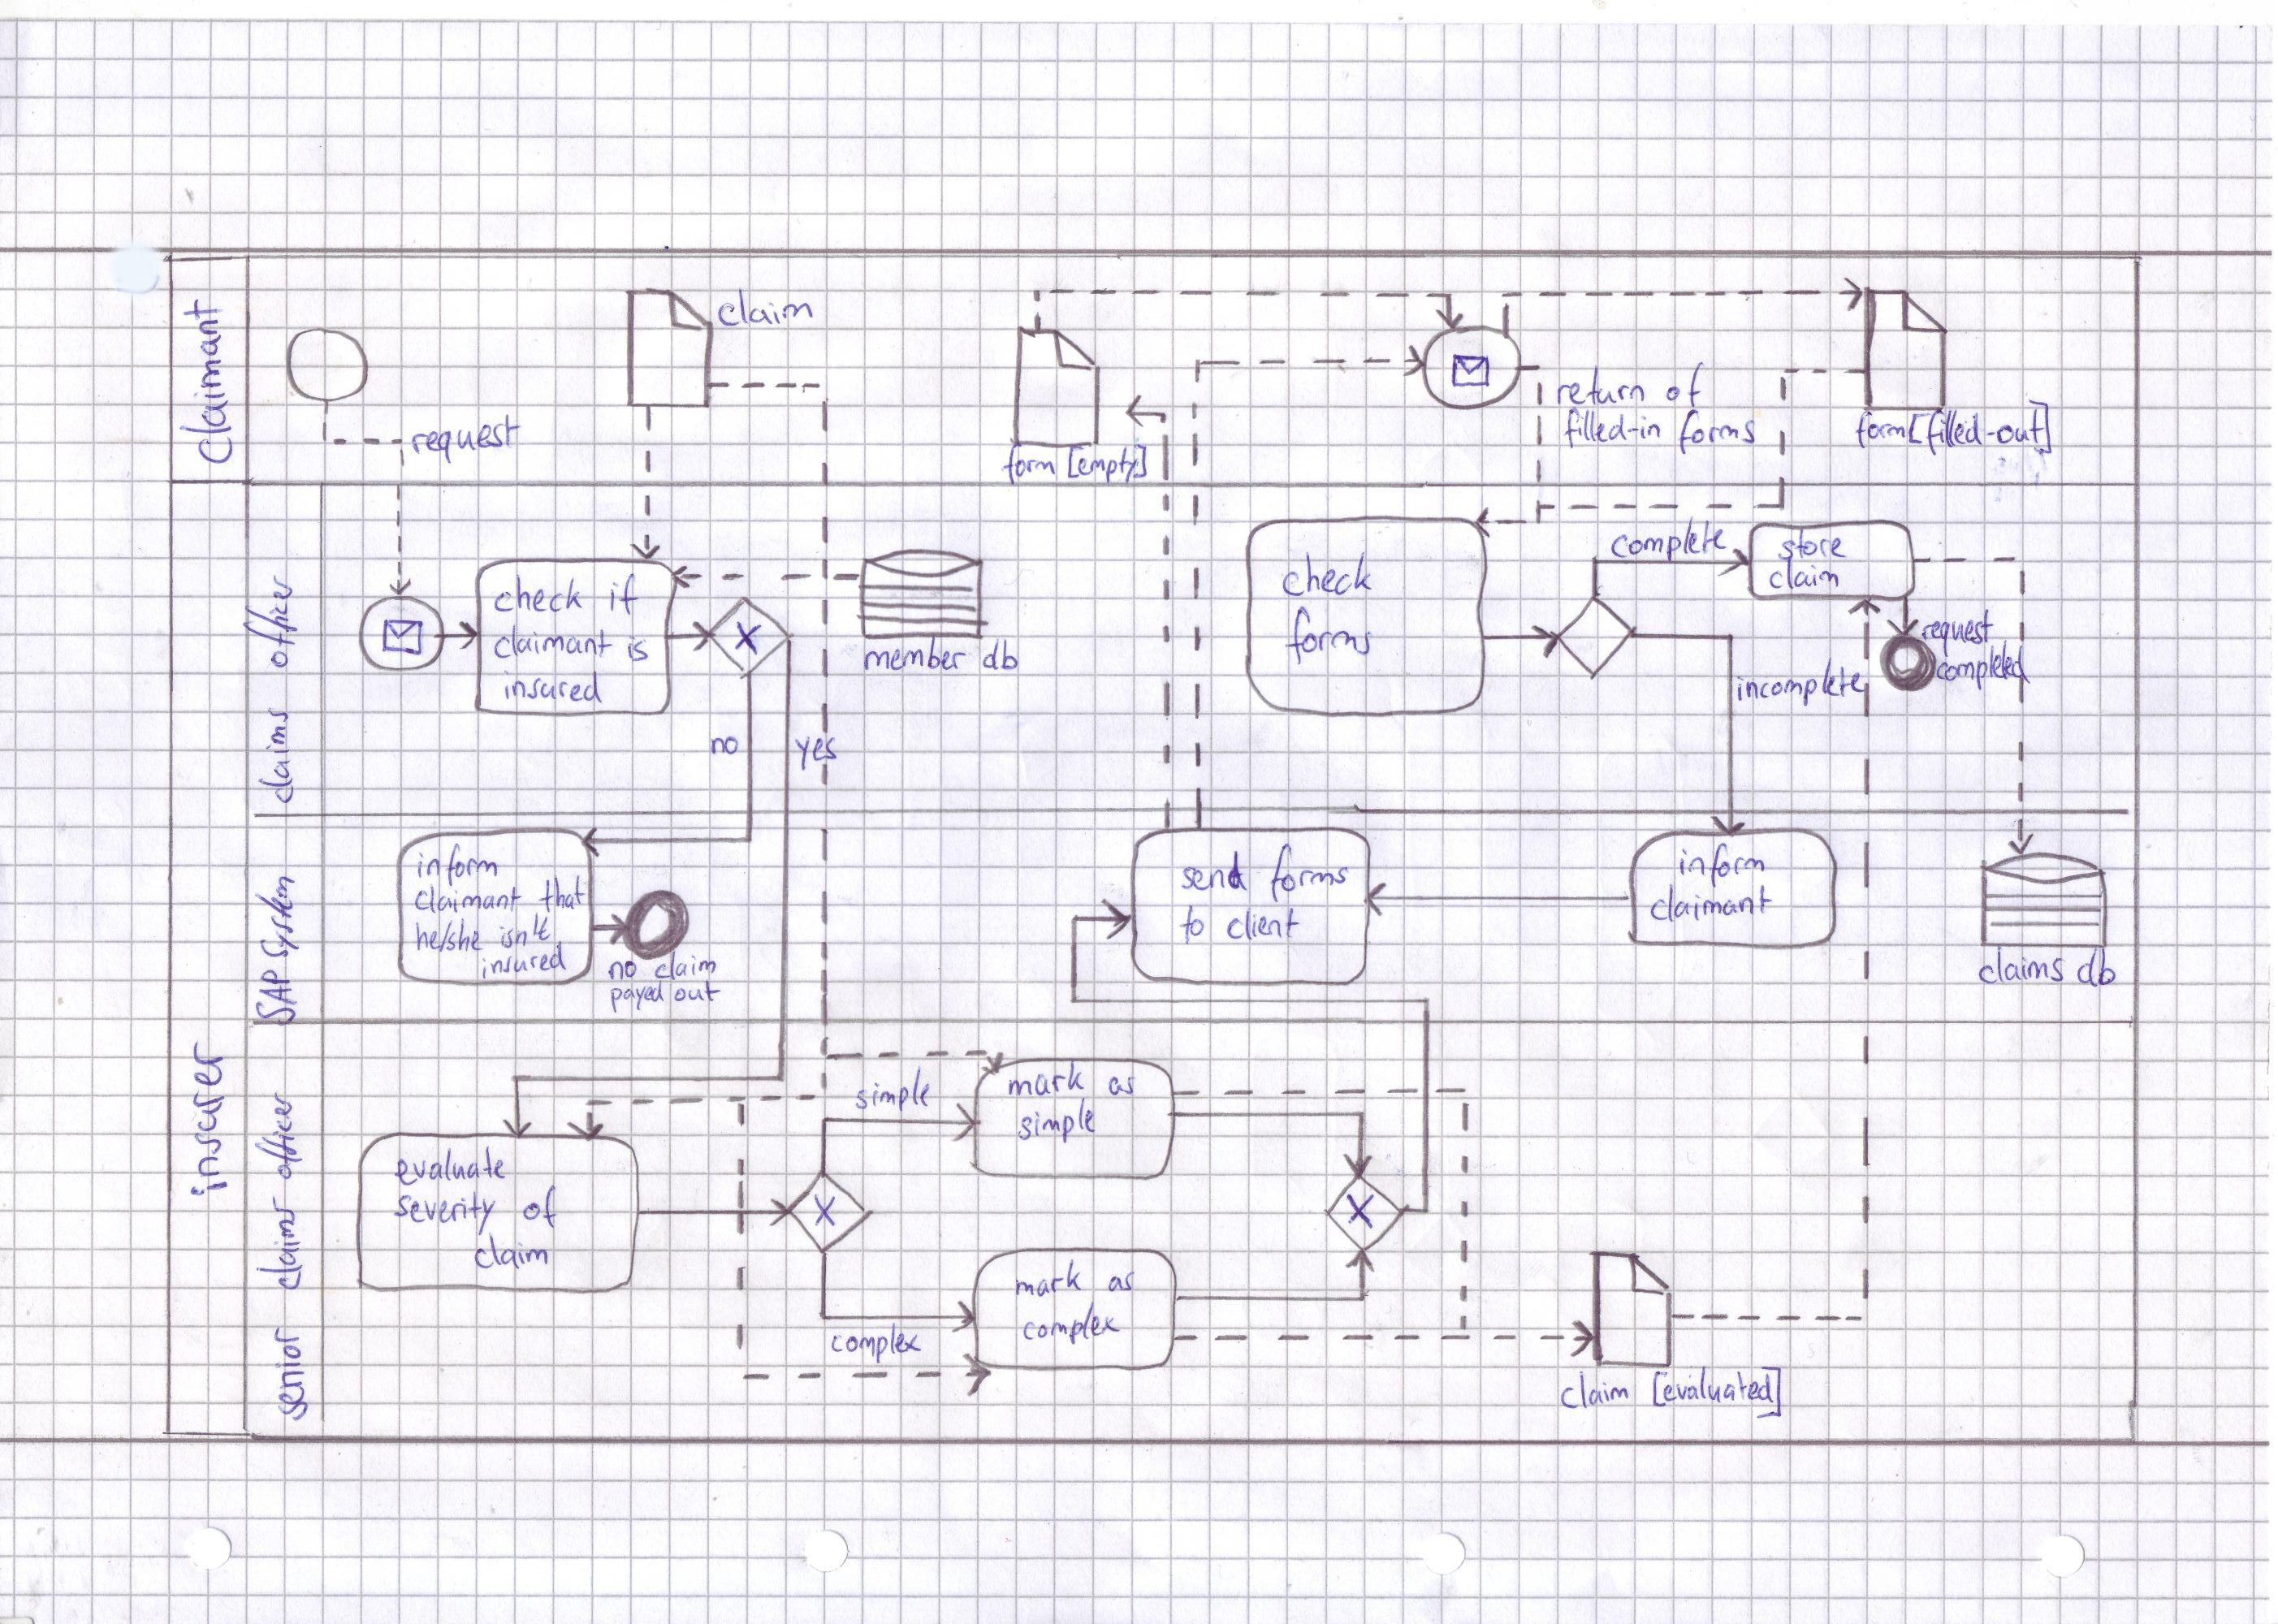SAP: (251, 967, 299, 1028)
System: (253, 861, 299, 963)
Yes: (796, 735, 838, 770)
[empty]: (1065, 441, 1150, 482)
[evaluated]: (1643, 1367, 1788, 1418)
[filled-out]: (1909, 402, 2058, 455)
as: (1104, 1067, 1137, 1102), (1107, 1262, 1135, 1299)
check: (1280, 550, 1375, 601), (492, 573, 587, 617)
claim: (712, 288, 816, 330), (1556, 1371, 1636, 1415), (1767, 557, 1844, 592), (475, 1239, 554, 1272), (654, 954, 717, 984)
claimant: (174, 294, 239, 468), (1647, 882, 1772, 930), (489, 622, 610, 663), (411, 882, 524, 917)
claims: (260, 1190, 309, 1294), (257, 705, 299, 808), (1974, 953, 2072, 990)
client: (1222, 903, 1308, 946)
complete: (1608, 517, 1731, 561)
completed: (1935, 642, 2028, 685)
complex: (1016, 1302, 1134, 1348), (826, 1325, 930, 1362)
db: (981, 638, 1023, 675), (2078, 954, 2118, 991)
evaluate: (390, 1151, 513, 1190)
filled-in: (1557, 408, 1665, 448)
form: (1004, 441, 1056, 485), (1853, 410, 1905, 452)
forms: (1283, 605, 1376, 664), (1260, 844, 1362, 898), (1673, 408, 1759, 455)
he/she: (413, 921, 483, 954)
if: (603, 571, 643, 619)
incomplete: (1735, 654, 1867, 707)
inform: (1675, 842, 1765, 882), (413, 844, 503, 884)
insured: (501, 668, 605, 705), (471, 949, 571, 982)
insurer: (185, 1040, 227, 1202)
is: (620, 633, 654, 663)
isn't: (489, 914, 555, 949)
mark: (1004, 1063, 1088, 1098), (1018, 1264, 1086, 1301)
member: (861, 640, 967, 675)
no: (610, 956, 650, 984), (708, 735, 742, 759)
of: (1661, 359, 1710, 411), (524, 1193, 557, 1232)
officer: (244, 573, 301, 670), (255, 1091, 304, 1183)
out: (670, 979, 721, 1009)
payed: (606, 982, 666, 1012)
request: (408, 410, 522, 462), (1919, 605, 1991, 657)
return: (1550, 364, 1650, 408)
send: (1176, 854, 1251, 898)
senior: (267, 1309, 315, 1424)
severity: (390, 1193, 513, 1232)
simple: (845, 1070, 942, 1121), (1012, 1102, 1100, 1144)
stock: (1777, 529, 1847, 562)
that: (538, 875, 589, 914)
to: (1176, 905, 1215, 947)
